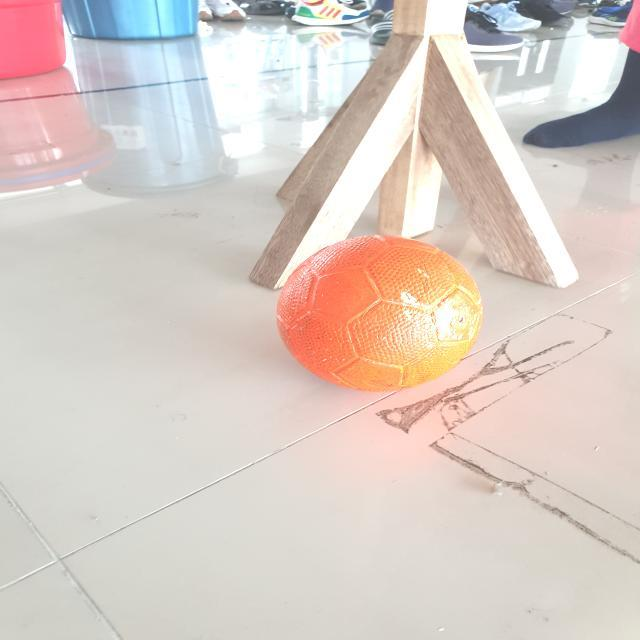bola: (276, 231, 489, 407)
